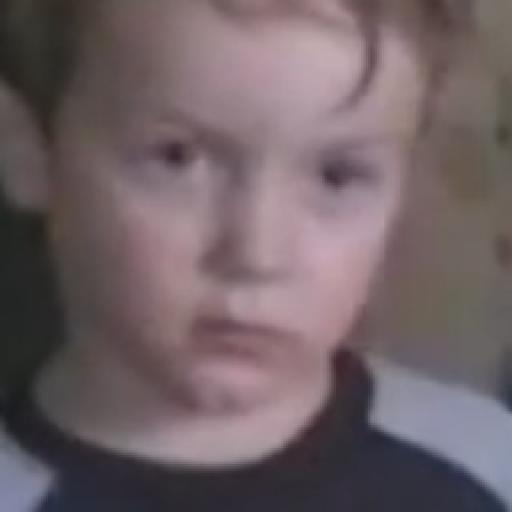Autism: (26, 6, 507, 432)
